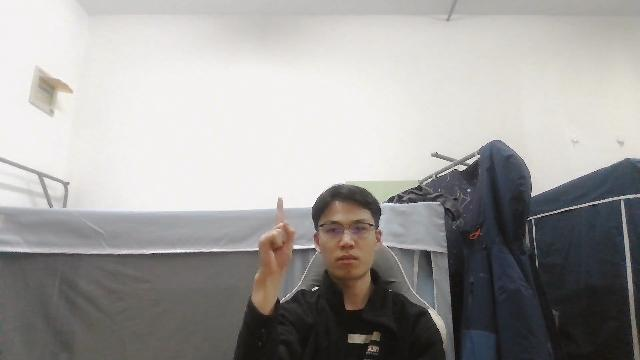one: (256, 195, 296, 270)
